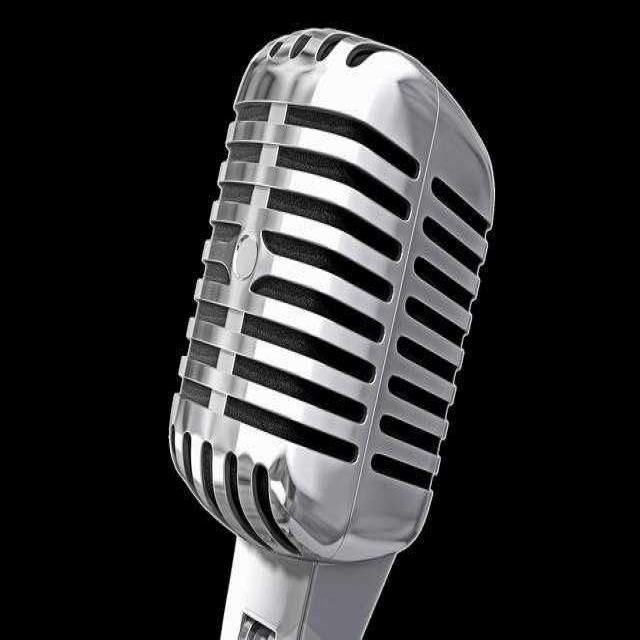microphone: (170, 28, 492, 637)
